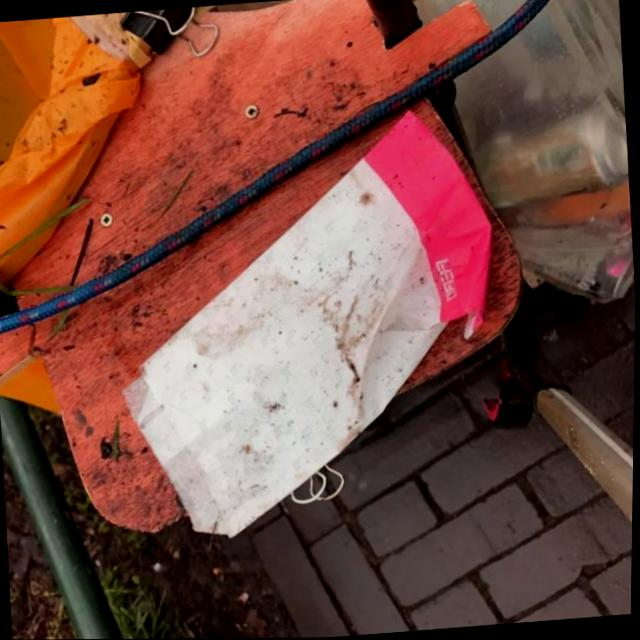Paper: (97, 99, 519, 550)
